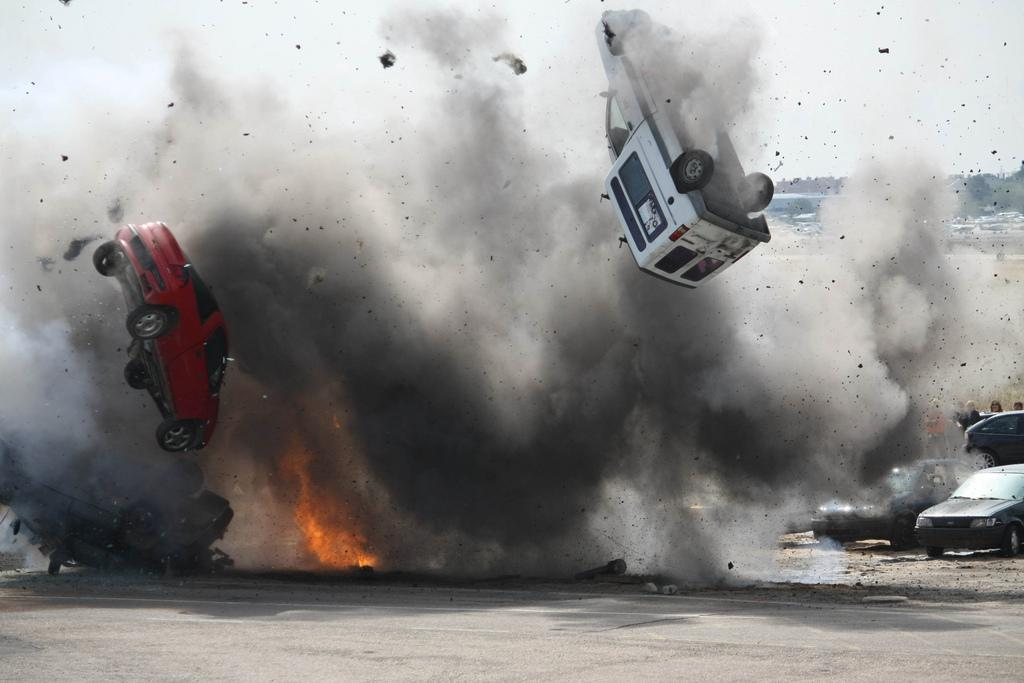fire: (307, 488, 370, 577)
smoke: (558, 282, 872, 542), (208, 133, 407, 363)
